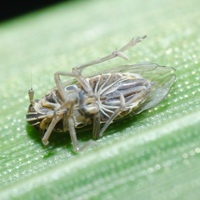insect: (26, 35, 175, 151)
